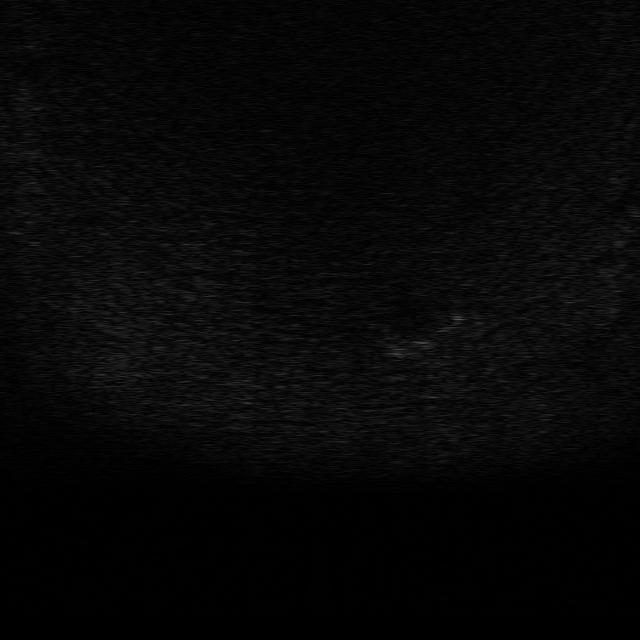plane: (372, 315, 463, 358)
